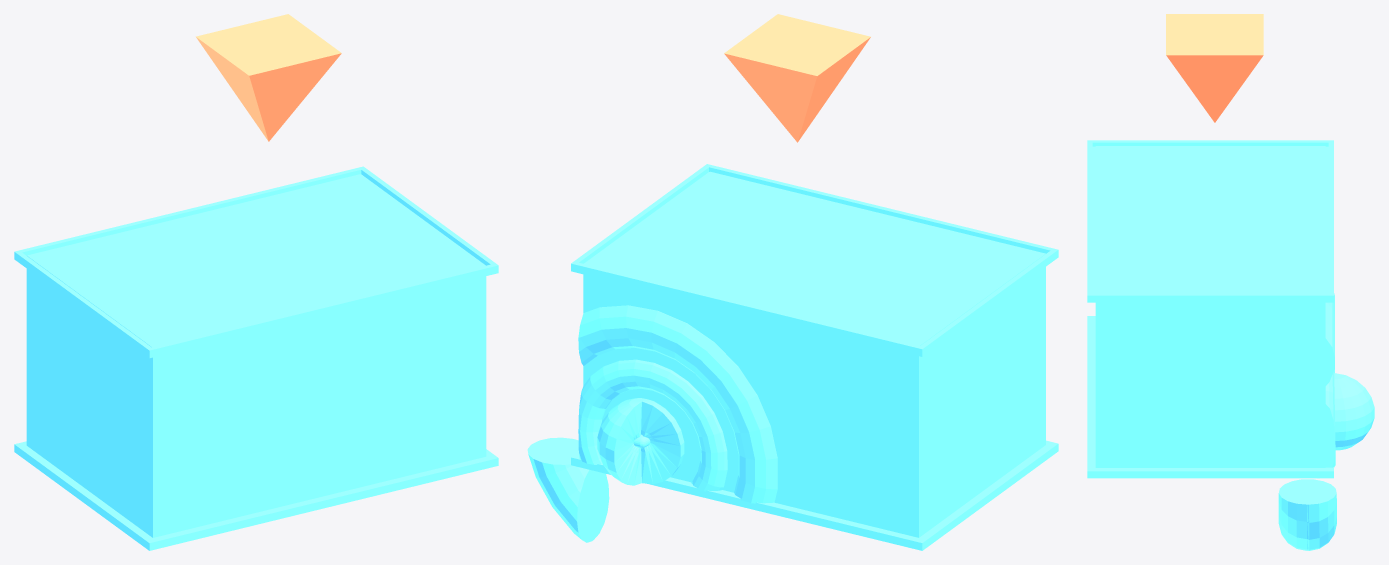
Rendered from build15.gltf.
3 views of the same model, side by side, from view 1: azimuth 30°, elevation 25°; view 2: azimuth 150°, elevation 25°; view 3: azimuth 270°, elevation 25° (orthographic). The views are drawn at different scales.
Parts seen in each view (by area): view 1: subject, fire-mark; view 2: subject, fire-mark; view 3: subject, fire-mark.
Boxes of the visible parts, x1=… form: subject: x1=14, y1=166, x2=498, y2=550; fire-mark: x1=196, y1=14, x2=341, y2=141; subject: x1=527, y1=164, x2=1058, y2=550; fire-mark: x1=724, y1=14, x2=870, y2=142; subject: x1=1087, y1=140, x2=1374, y2=550; fire-mark: x1=1166, y1=14, x2=1263, y2=122.
Size of the model in its own units: 25.36 by 29.62 by 17.19.
